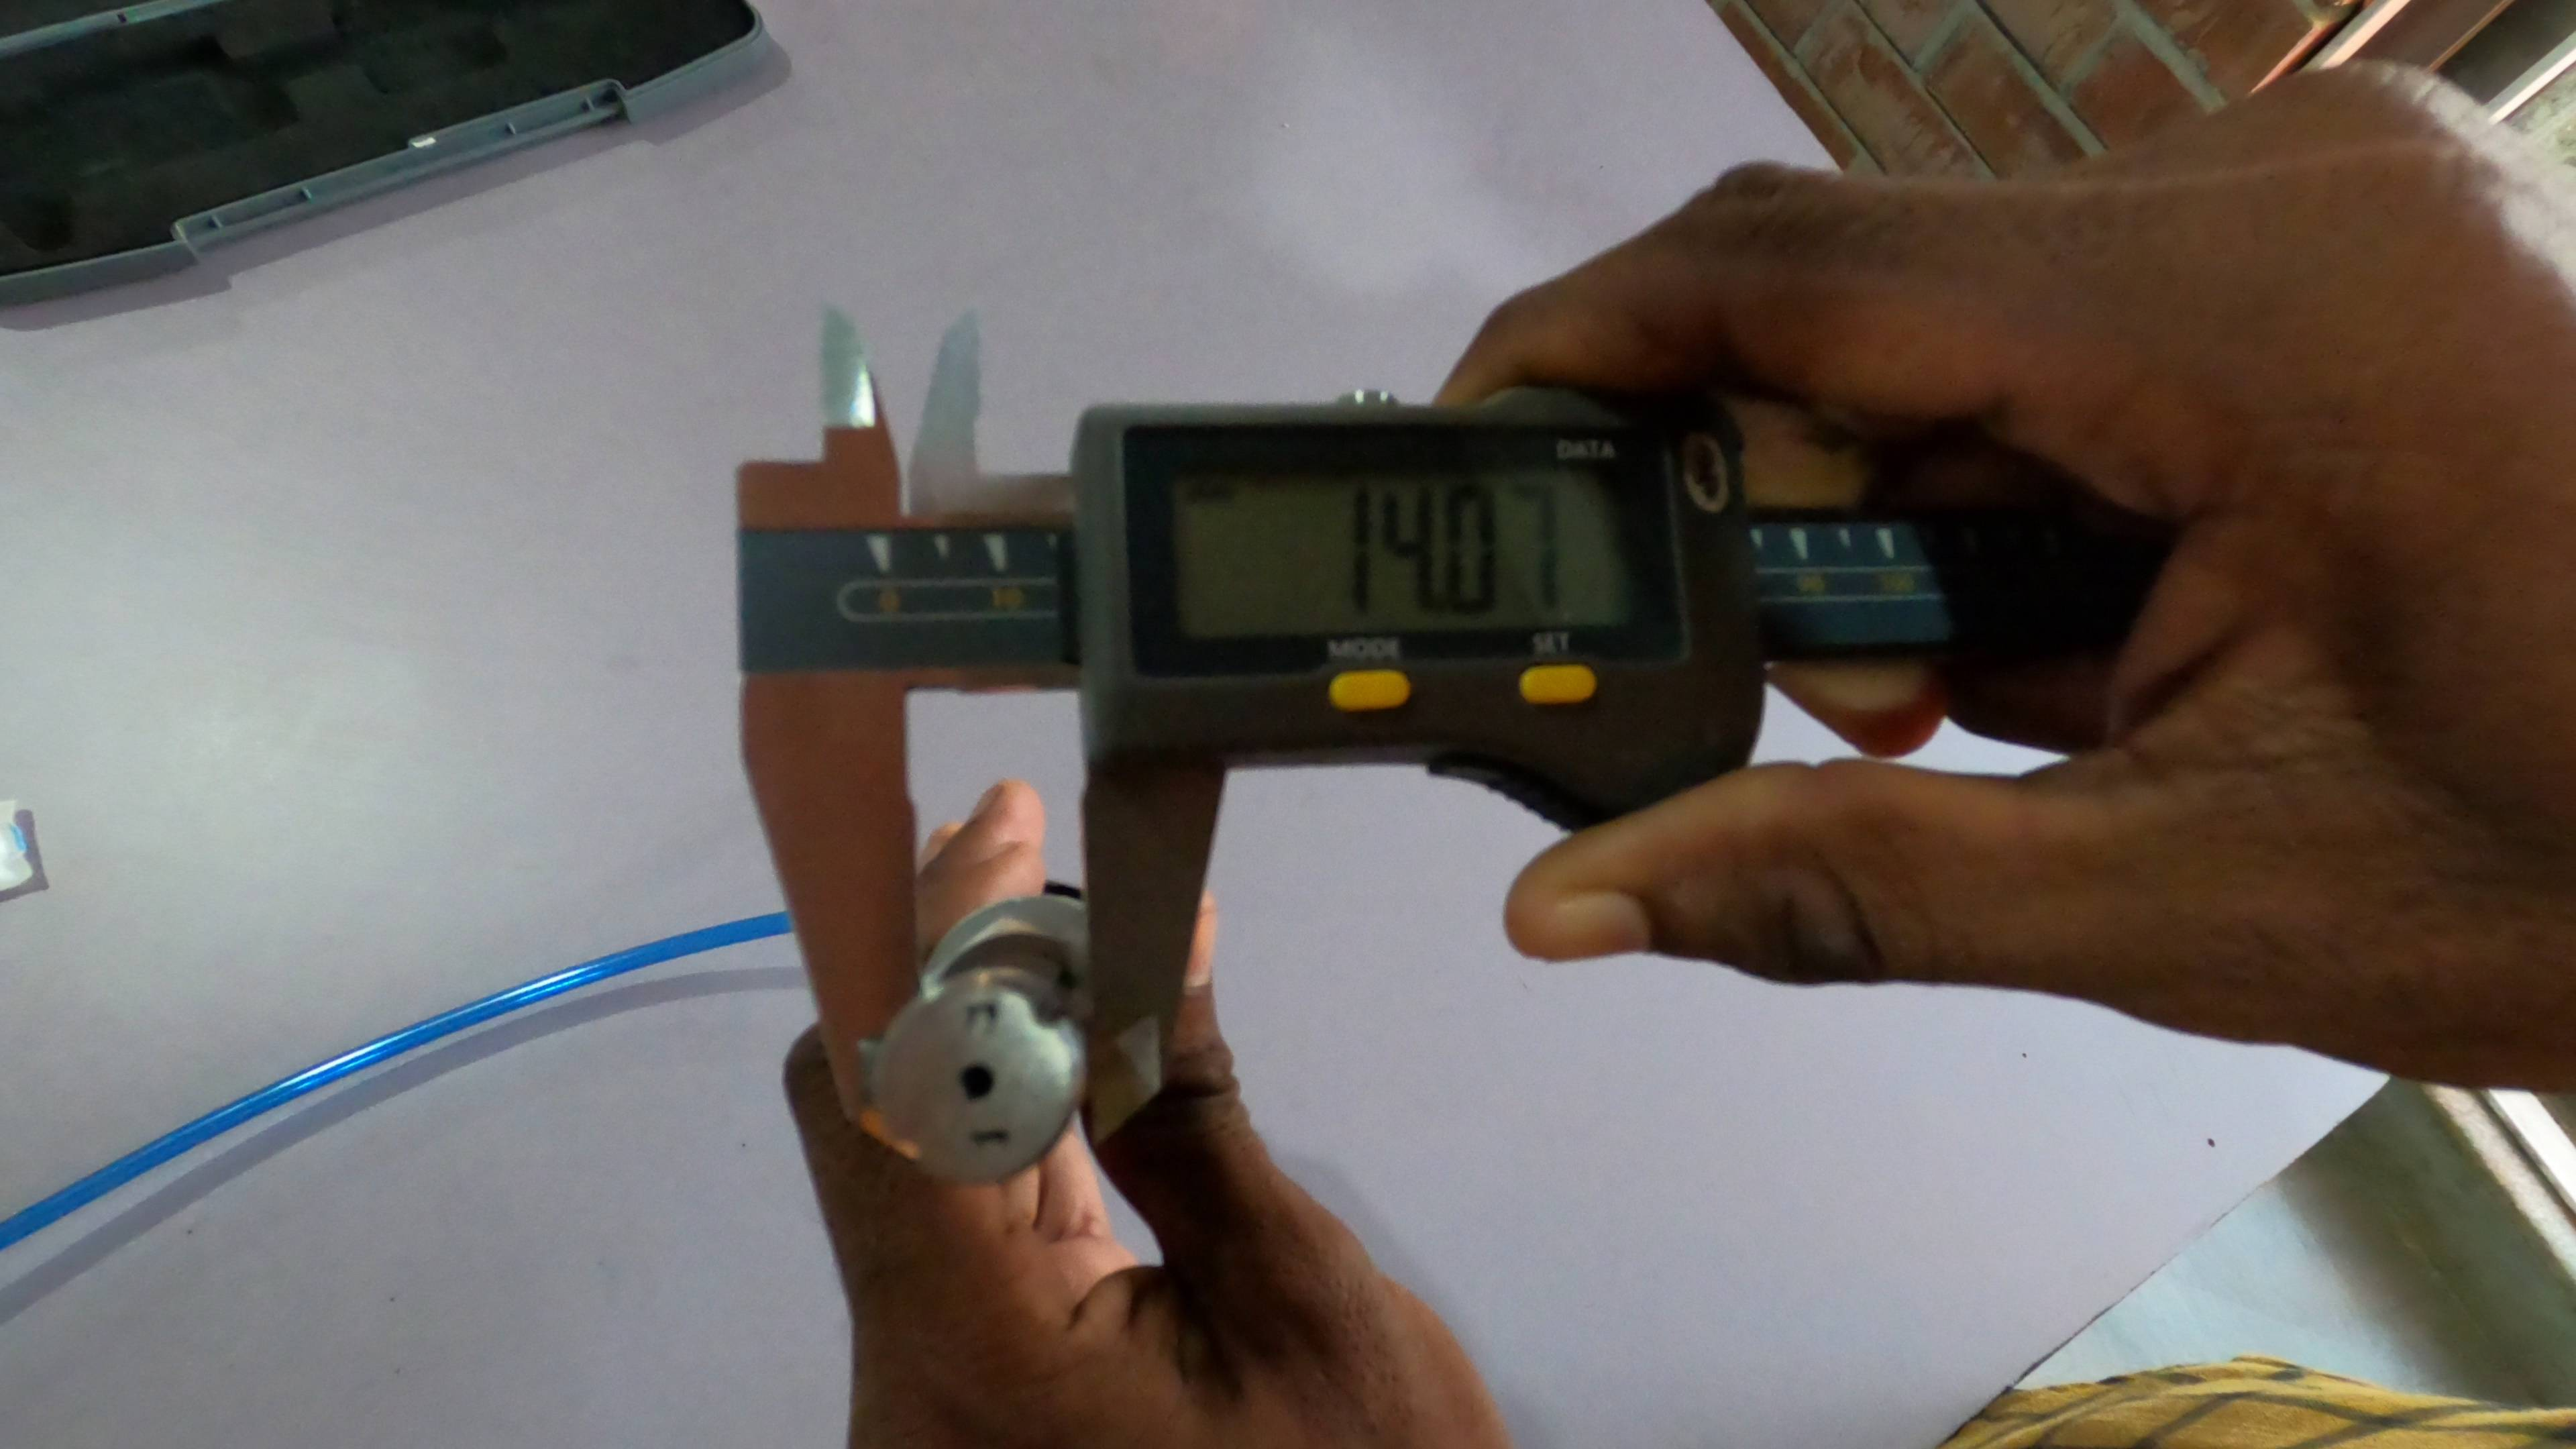vernier_caliper: (736, 288, 2098, 1191)
